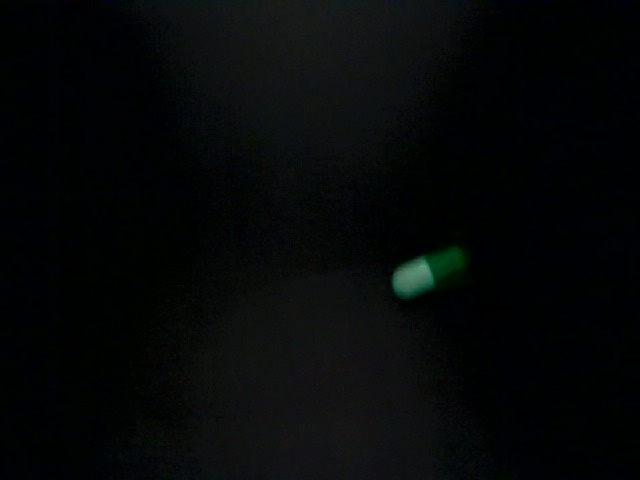YHLJ: (455, 324, 558, 410)
